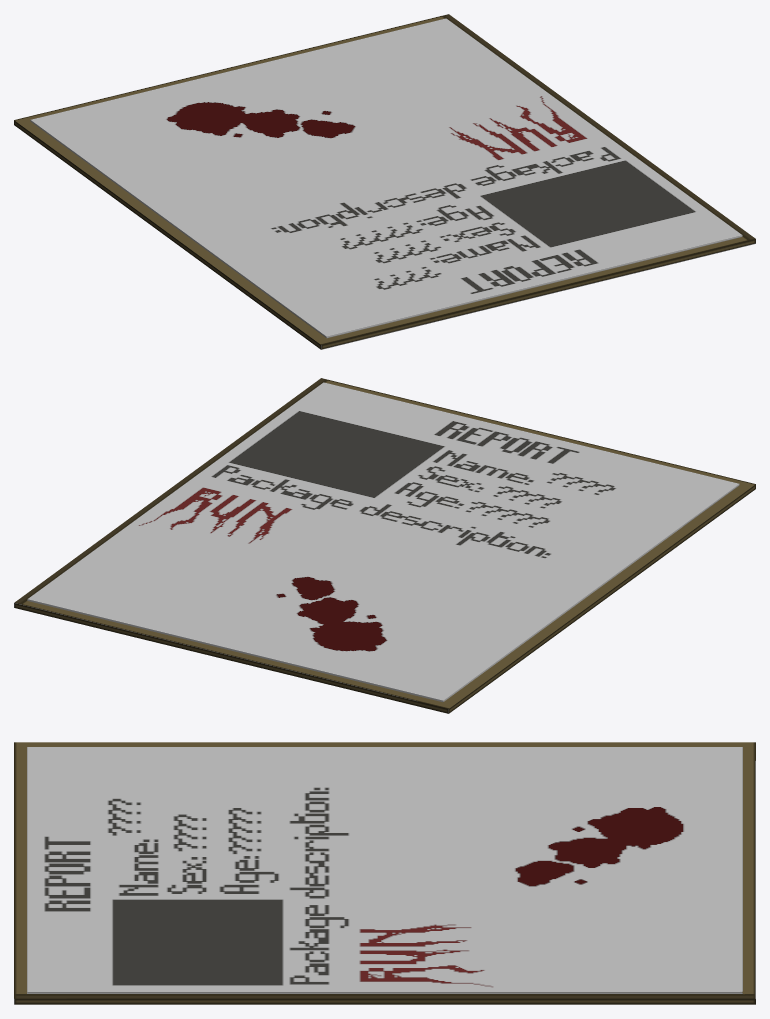
The model's file is note_full_coprse.fbx.
3 views of the same model, one above another, from view 1: azimuth 30°, elevation 25°; view 2: azimuth 150°, elevation 25°; view 3: azimuth 270°, elevation 25° (orthographic). The views are drawn at different scales.
Parts seen in each view (by area): view 1: cube_1, cube; view 2: cube_1, cube; view 3: cube_1, cube.
Part boxes in pixels (x1,y1,x2,y2): cube_1: (30,18,742,338); cube: (14,14,755,349); cube_1: (27,382,739,702); cube: (14,378,755,713); cube_1: (27,747,742,993); cube: (14,742,755,1004).
Size of the model in its own units: 1731 by 25 by 2119.
Materials: 1 (1 with a texture image).
